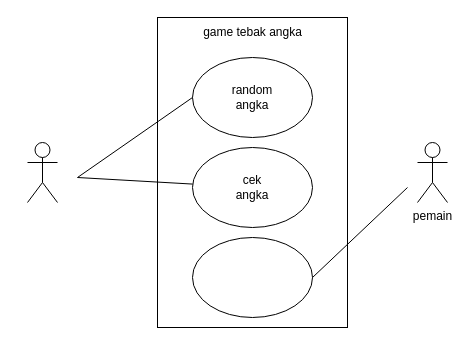
The diagram is 469 pixels wide and 345 high, and some of its shapes have lost their labels. Here are the shapes that lost their labels. From the top down, the centre of each, then its label:
At (42,172): "computer".
At (252,277): "tebak angka".
